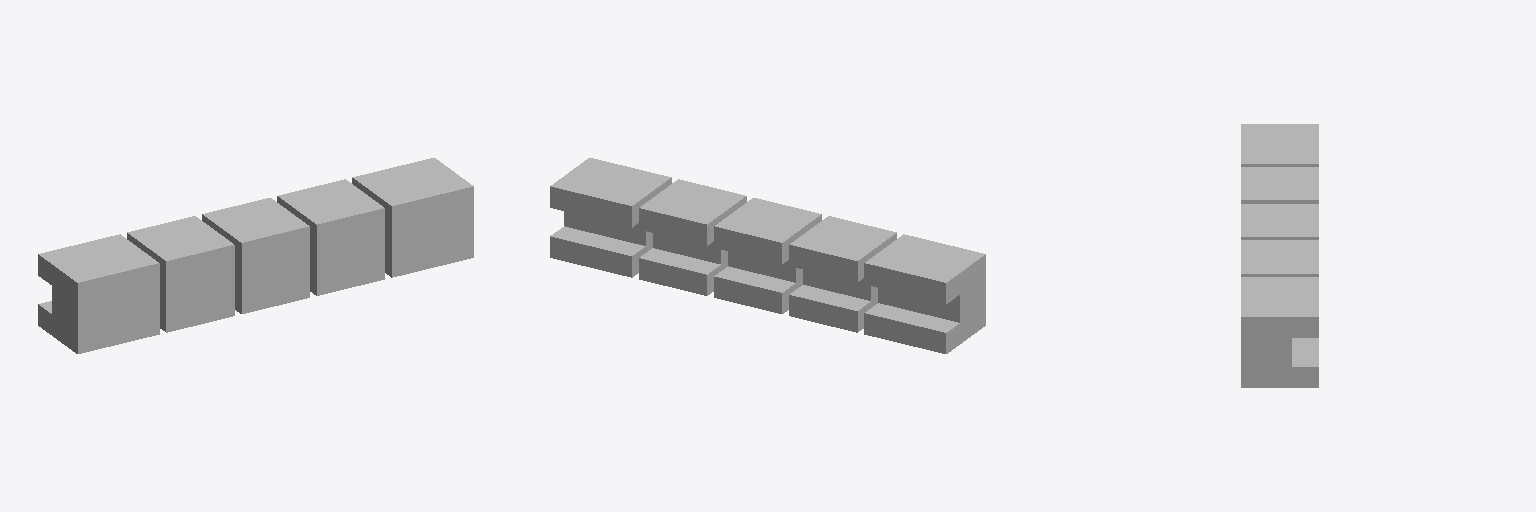
Rendered from monorail car.obj.
The picture shows the model from 3 angles: view 1: azimuth 30°, elevation 25°; view 2: azimuth 150°, elevation 25°; view 3: azimuth 270°, elevation 25°; orthographic projection.
Bounding box in the file's own units: 116 × 20 × 20.